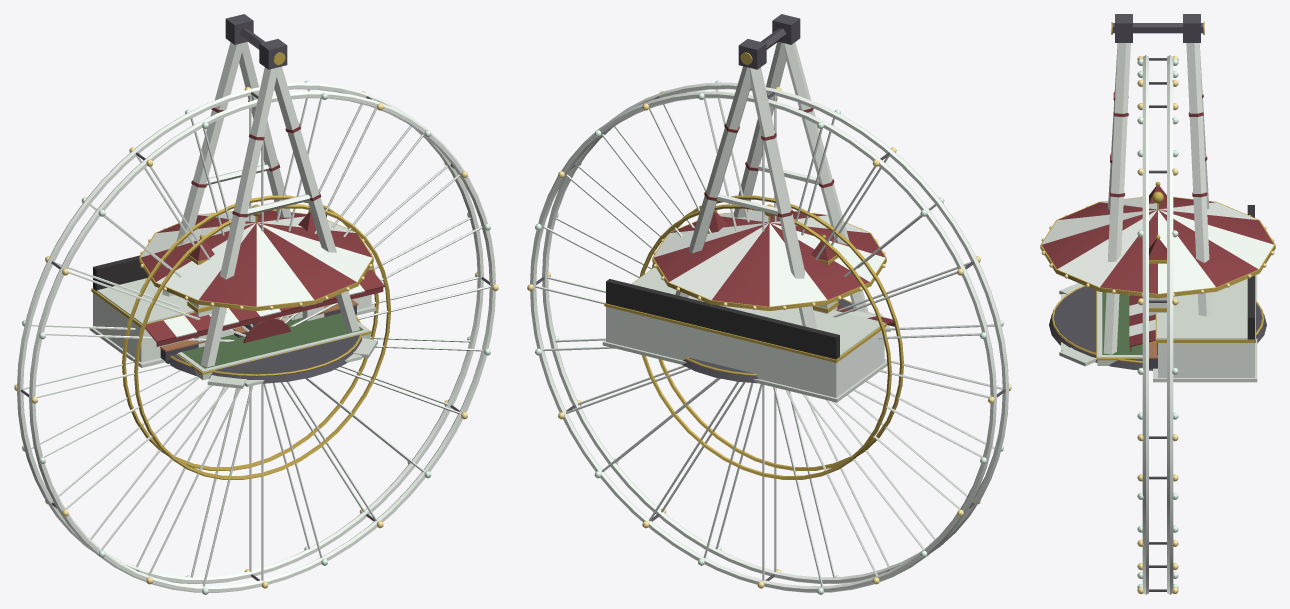
Rendered from downs-fair.glb.
3 views of the same model, side by side, from view 1: azimuth 30°, elevation 25°; view 2: azimuth 150°, elevation 25°; view 3: azimuth 270°, elevation 25° (orthographic).
Parts seen in each view (by area): view 1: dn_wheel_mint, dn_wheel_frame_mint, dn_carousel_clad, dn_carousel_barn, dn_wheel_gold, dn_carousel_base_black2, dn_wheel_frame_money2, dn_ticket_hall_mint2, dn_ticket_hall_barn, dn_ticket_hall_mint, dn_wheel_frame_black2, dn_carousel_gold (+7 smaller); view 2: dn_wheel_mint, dn_wheel_frame_mint, dn_ticket_hall_mint, dn_carousel_barn, dn_carousel_clad, dn_ticket_hall_black, dn_wheel_gold, dn_ticket_hall_mint2, dn_wheel_frame_black2, dn_carousel_gold, dn_ticket_hall_gold, dn_carousel_base_black2 (+2 smaller); view 3: dn_wheel_frame_mint, dn_wheel_mint, dn_carousel_clad, dn_carousel_barn, dn_ticket_hall_mint2, dn_ticket_hall_mint, dn_carousel_base_black2, dn_wheel_frame_black2, dn_carousel_gold, dn_wheel_frame_money2, dn_wheel_glowmint, dn_wheel_glowgold (+9 smaller).
Part boxes in pixels (<box>): dn_wheel_mint: <box>17,82,495,592</box>; dn_wheel_frame_mint: <box>162,42,359,367</box>; dn_carousel_clad: <box>140,211,372,306</box>; dn_carousel_barn: <box>140,210,372,306</box>; dn_wheel_gold: <box>122,195,390,479</box>; dn_carousel_base_black2: <box>165,320,361,383</box>; dn_wheel_frame_money2: <box>182,313,363,368</box>; dn_ticket_hall_mint2: <box>89,268,376,367</box>; dn_ticket_hall_barn: <box>145,269,384,346</box>; dn_ticket_hall_mint: <box>93,293,371,362</box>; dn_wheel_frame_black2: <box>225,14,287,69</box>; dn_carousel_gold: <box>139,204,373,310</box>; dn_wheel_mint: <box>530,82,1008,592</box>; dn_wheel_frame_mint: <box>675,42,868,328</box>; dn_ticket_hall_mint: <box>606,307,884,397</box>; dn_carousel_barn: <box>653,211,885,306</box>; dn_carousel_clad: <box>653,210,885,306</box>; dn_ticket_hall_black: <box>606,279,839,359</box>; dn_wheel_gold: <box>639,195,903,479</box>; dn_ticket_hall_mint2: <box>602,268,887,402</box>; dn_wheel_frame_black2: <box>738,14,800,69</box>; dn_carousel_gold: <box>652,204,886,310</box>; dn_ticket_hall_gold: <box>604,267,886,362</box>; dn_carousel_base_black2: <box>682,299,853,383</box>; dn_wheel_frame_mint: <box>1103,43,1211,354</box>; dn_wheel_mint: <box>1142,55,1173,594</box>; dn_carousel_clad: <box>1042,197,1273,293</box>; dn_carousel_barn: <box>1042,197,1273,293</box>; dn_ticket_hall_mint2: <box>1153,275,1257,382</box>; dn_ticket_hall_mint: <box>1158,343,1254,377</box>; dn_carousel_base_black2: <box>1049,286,1266,370</box>; dn_wheel_frame_black2: <box>1112,14,1203,42</box>; dn_carousel_gold: <box>1040,191,1275,298</box>; dn_wheel_frame_money2: <box>1102,292,1142,354</box>; dn_wheel_glowmint: <box>1137,59,1178,588</box>; dn_wheel_glowgold: <box>1137,56,1178,594</box>.
Bounding box in the file's own units: 44.6 × 50.2 × 19.4.
